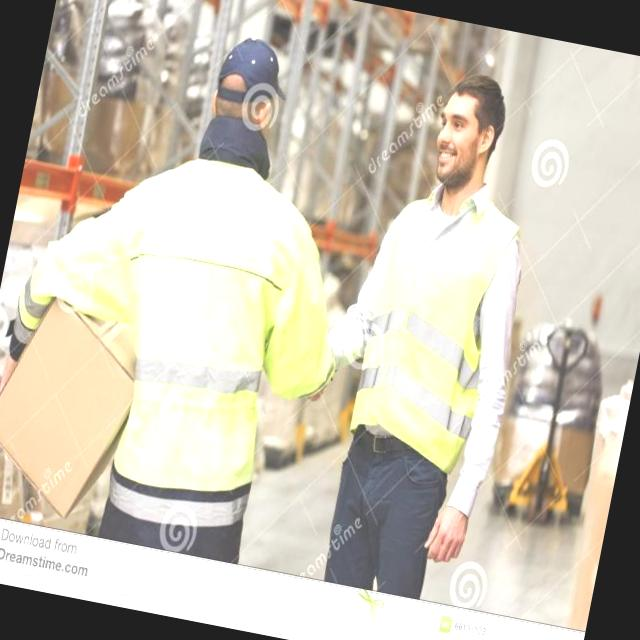vest: (338, 198, 519, 472)
